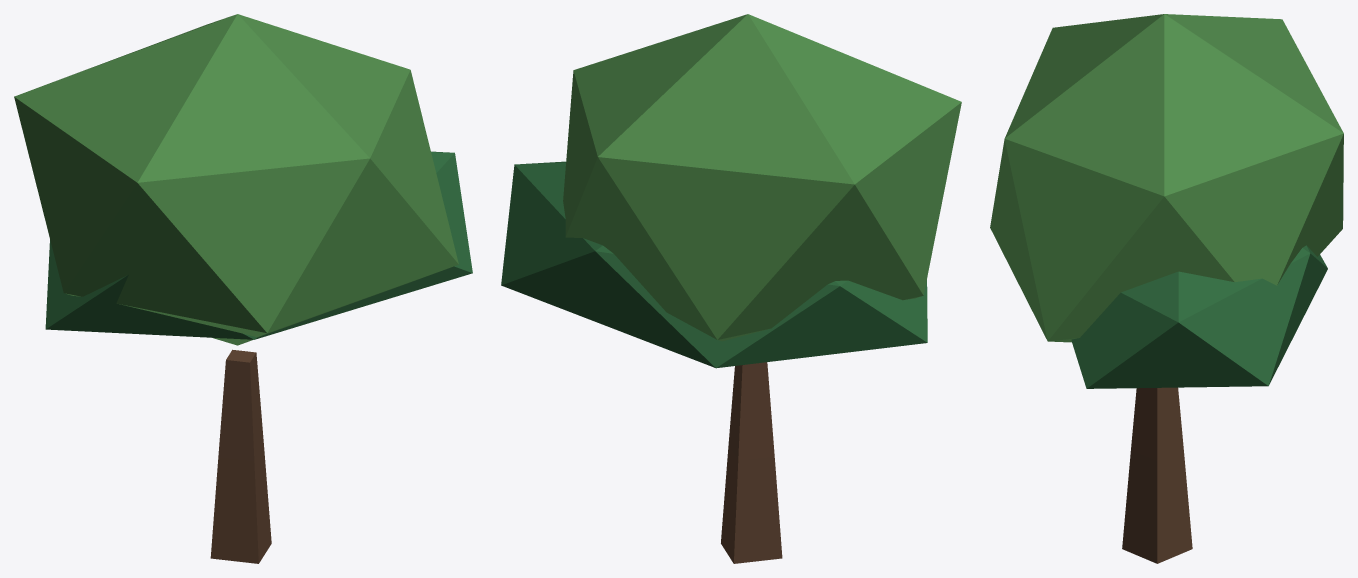
Rendered from tree_oak_a_lod.glb.
The picture shows the model from 3 angles, left to right: view 1: azimuth 30°, elevation 25°; view 2: azimuth 150°, elevation 25°; view 3: azimuth 270°, elevation 25°; orthographic projection.
Parts seen in each view (by area): view 1: Body; view 2: Body; view 3: Body.
Part boxes in pixels (box(x1,y1,x2,y2)): Body: box(14, 14, 472, 563); Body: box(501, 14, 961, 563); Body: box(990, 14, 1343, 563).
Size of the model in its own units: 6.71 by 8.36 by 5.01.
